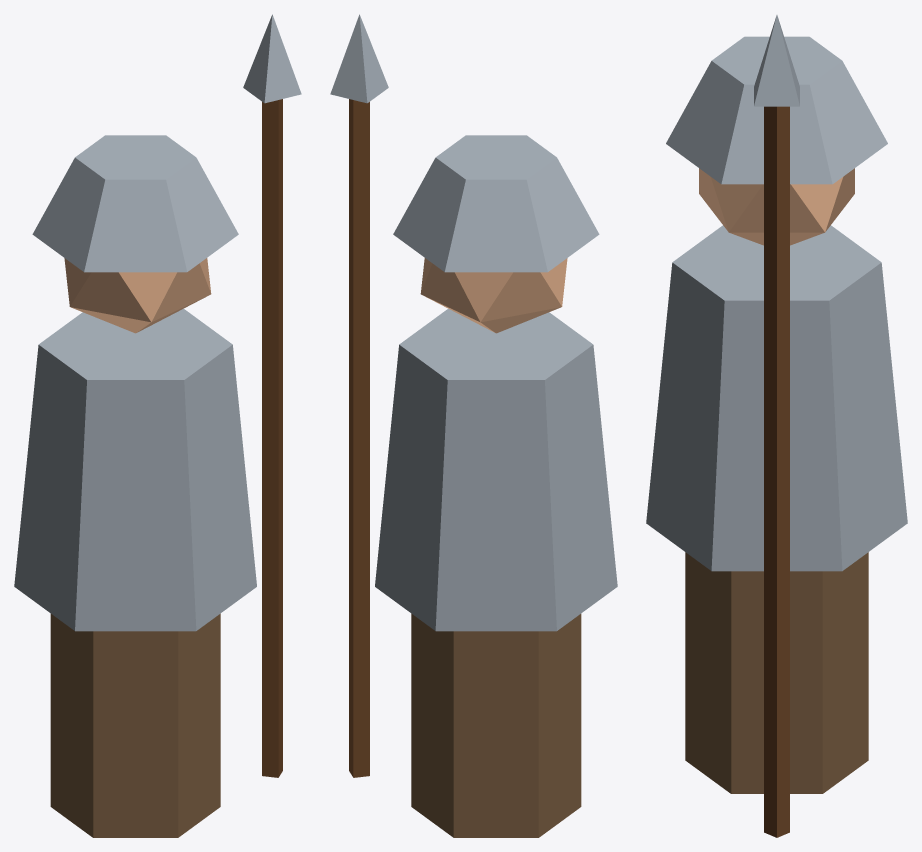
The model's file is soldier.fbx.
3 views of the same model, side by side, from view 1: azimuth 30°, elevation 25°; view 2: azimuth 150°, elevation 25°; view 3: azimuth 270°, elevation 25° (orthographic). The views are drawn at different scales.
Visible parts, largest first — view 1: soldier; view 2: soldier; view 3: soldier.
Part boxes in pixels (x1=…): soldier: x1=14, y1=14, x2=301, y2=837; soldier: x1=330, y1=14, x2=617, y2=837; soldier: x1=646, y1=15, x2=907, y2=837.
Bounding box in the file's own units: 0.2343 × 0.69 × 0.2.
